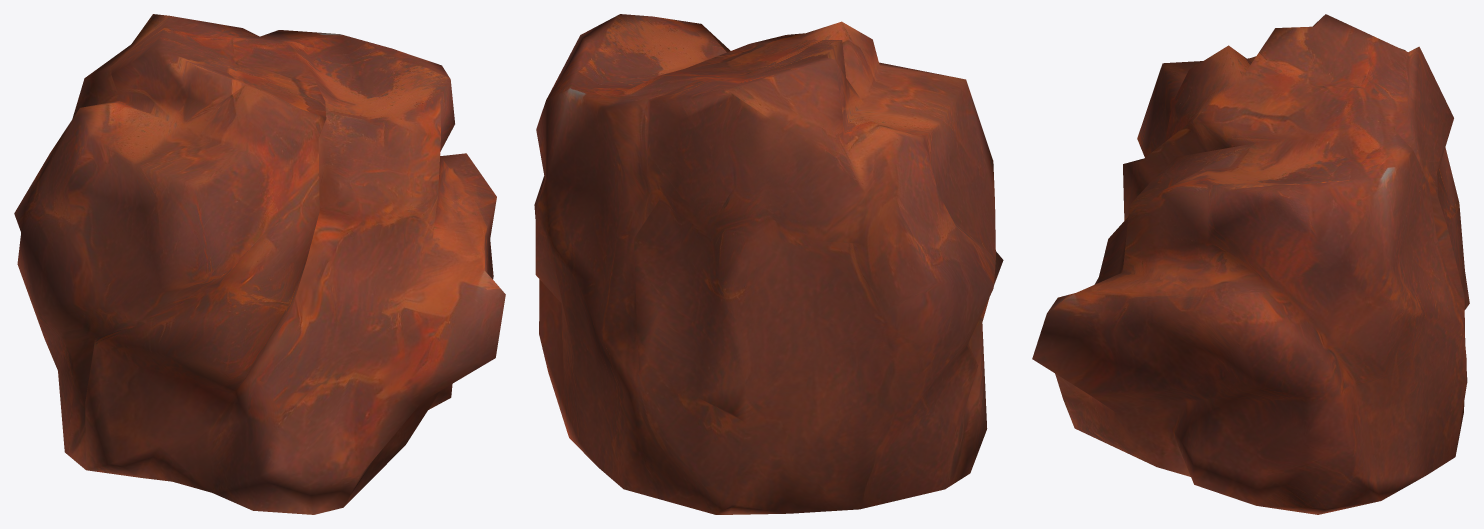
Rendered from rock_1.glb.
3 views of the same model, side by side, from view 1: azimuth 30°, elevation 25°; view 2: azimuth 150°, elevation 25°; view 3: azimuth 270°, elevation 25° (orthographic). The views are drawn at different scales.
Parts seen in each view (by area): view 1: tripo_node_ae98dad4-03d9-4abc-a978-08a6f73ed533; view 2: tripo_node_ae98dad4-03d9-4abc-a978-08a6f73ed533; view 3: tripo_node_ae98dad4-03d9-4abc-a978-08a6f73ed533.
Boxes of the visible parts, <box> form: tripo_node_ae98dad4-03d9-4abc-a978-08a6f73ed533: <box>14,14,505,514</box>; tripo_node_ae98dad4-03d9-4abc-a978-08a6f73ed533: <box>534,14,1003,514</box>; tripo_node_ae98dad4-03d9-4abc-a978-08a6f73ed533: <box>1032,14,1469,514</box>.
Size of the model in its own units: 1 by 0.9044 by 0.9175.
Materials: 1 (1 with a texture image).
